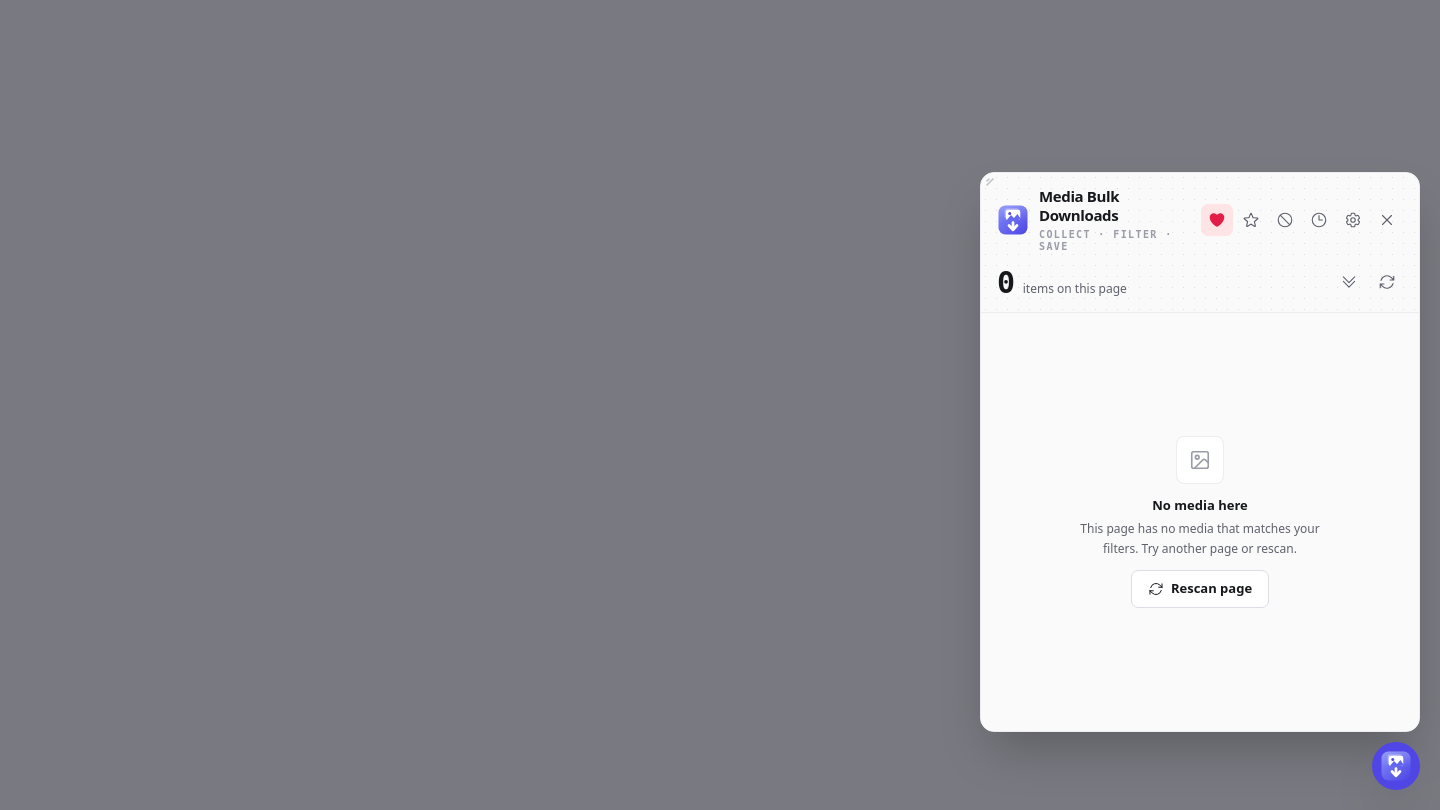
Bubble › streams deep-scan progress and surfaces the stop reason
The width and height of the screenshot is (1440, 810).
Expected: the heading "Media Bulk Downloads" is shown, [1039, 186, 1119, 225]
Step 1. Click the button named "Deep scan" → (1349, 282), box [1333, 266, 1365, 298]
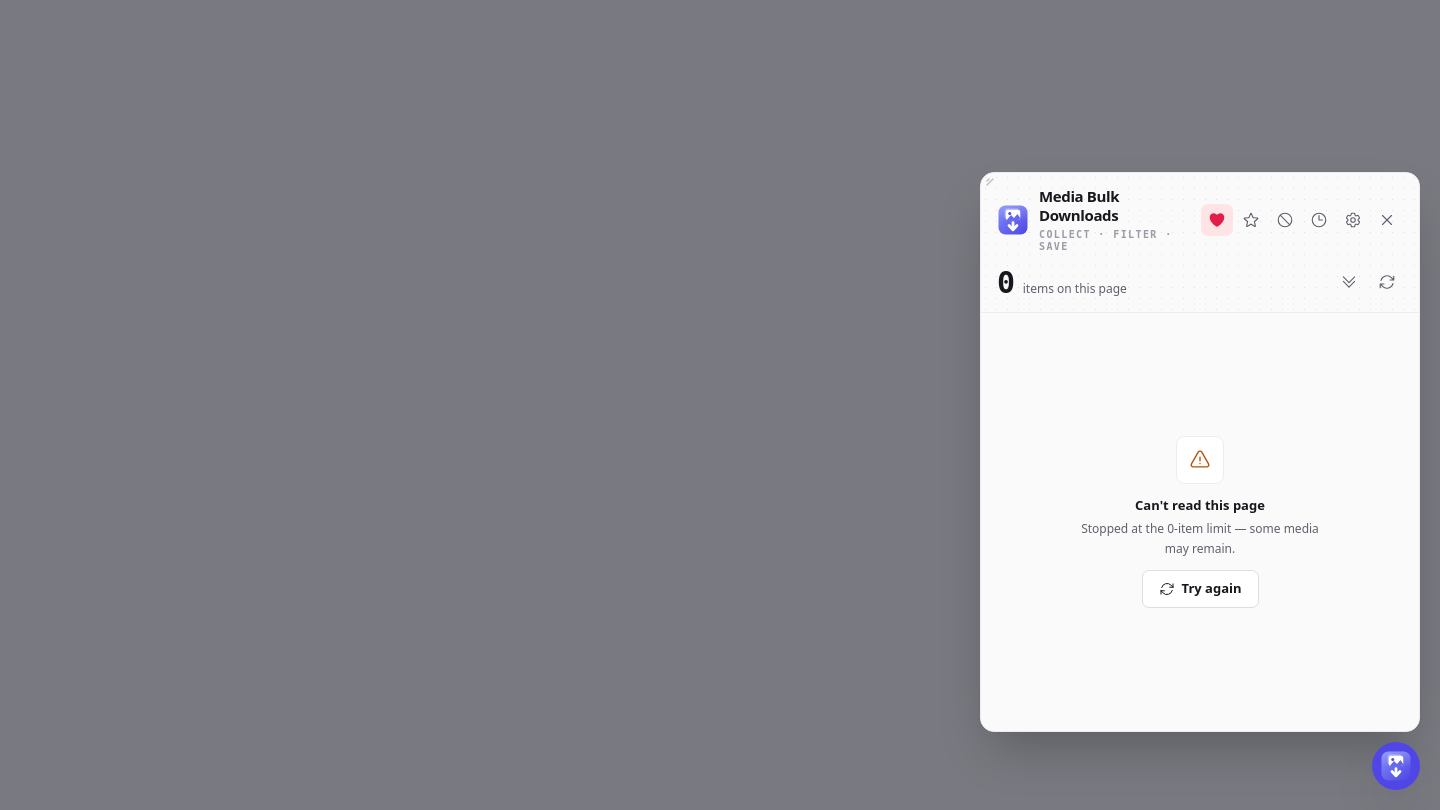
Now the text "Stopped at the 0-item limit — some media may remain." is shown, box [1070, 519, 1330, 558]
